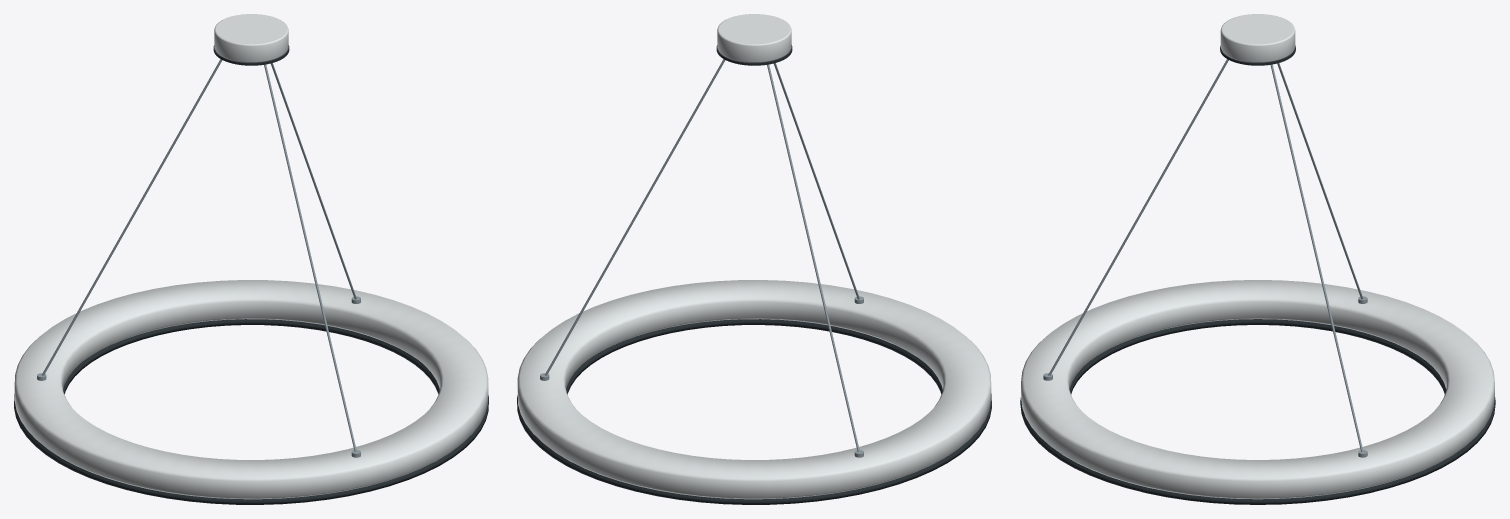
File: DomePendantLight.fbx
3 views of the same model, side by side, from view 1: azimuth 30°, elevation 25°; view 2: azimuth 150°, elevation 25°; view 3: azimuth 270°, elevation 25° (orthographic).
Visible parts, largest first — view 1: DomePendantLight_Fixture; view 2: DomePendantLight_Fixture; view 3: DomePendantLight_Fixture.
Boxes of the visible parts, <box> form: DomePendantLight_Fixture: <box>14,14,488,504</box>; DomePendantLight_Fixture: <box>517,14,991,504</box>; DomePendantLight_Fixture: <box>1020,14,1495,504</box>.
Size of the model in its own units: 140 by 123 by 140.
